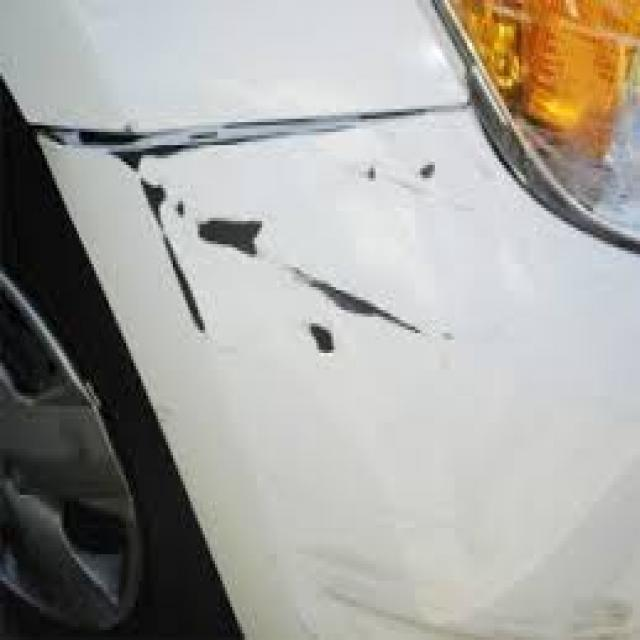dent-or-scratch: (43, 128, 510, 370)
